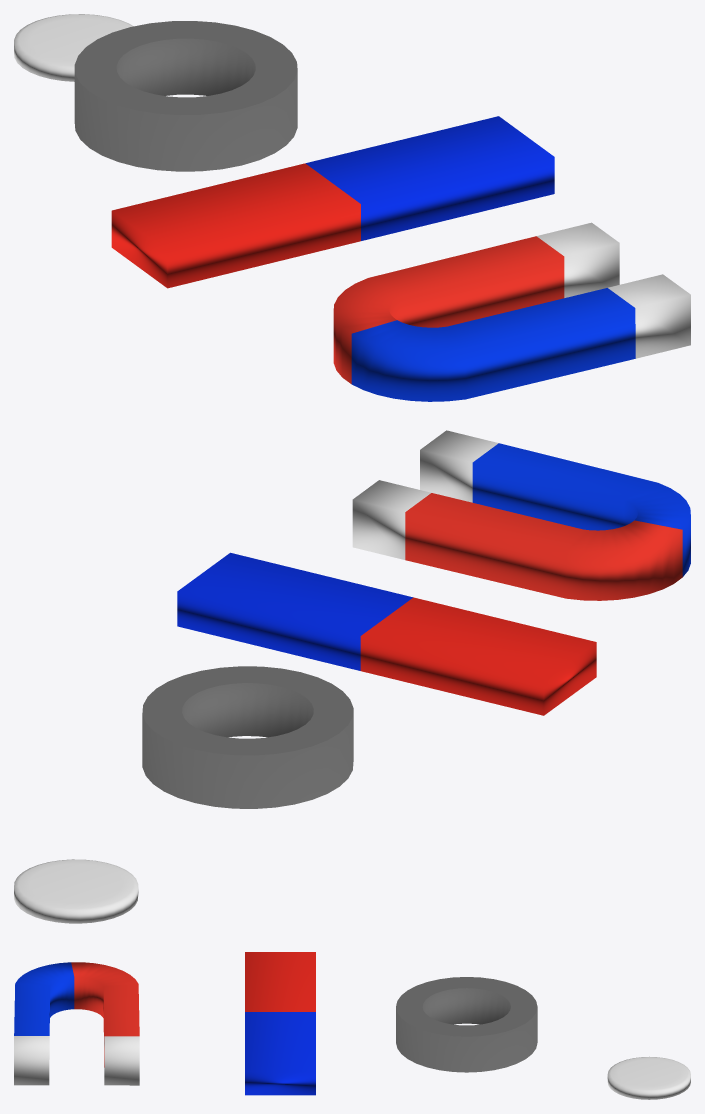
File: AllMagnets.fbx
3 views of the same model, one above another, from view 1: azimuth 30°, elevation 25°; view 2: azimuth 150°, elevation 25°; view 3: azimuth 270°, elevation 25° (orthographic). The views are drawn at different scales.
Visible parts, largest first — view 1: HorseShoeMagnet, BarMagnet, CircleMagnet, CoinMagnet; view 2: HorseShoeMagnet, BarMagnet, CircleMagnet, CoinMagnet; view 3: CircleMagnet, HorseShoeMagnet, BarMagnet, CoinMagnet.
Boxes of the visible parts, x1,y1,x2,y2 form: HorseShoeMagnet: [333, 222, 690, 401]; BarMagnet: [111, 116, 554, 288]; CircleMagnet: [74, 21, 297, 171]; CoinMagnet: [14, 14, 133, 81]; HorseShoeMagnet: [352, 430, 690, 600]; BarMagnet: [177, 552, 596, 715]; CircleMagnet: [142, 666, 353, 808]; CoinMagnet: [14, 859, 138, 923]; CircleMagnet: [396, 977, 537, 1072]; HorseShoeMagnet: [14, 962, 139, 1085]; BarMagnet: [245, 952, 315, 1095]; CoinMagnet: [607, 1056, 690, 1099].
Bounding box in the file's own units: 400 × 101 × 956.
